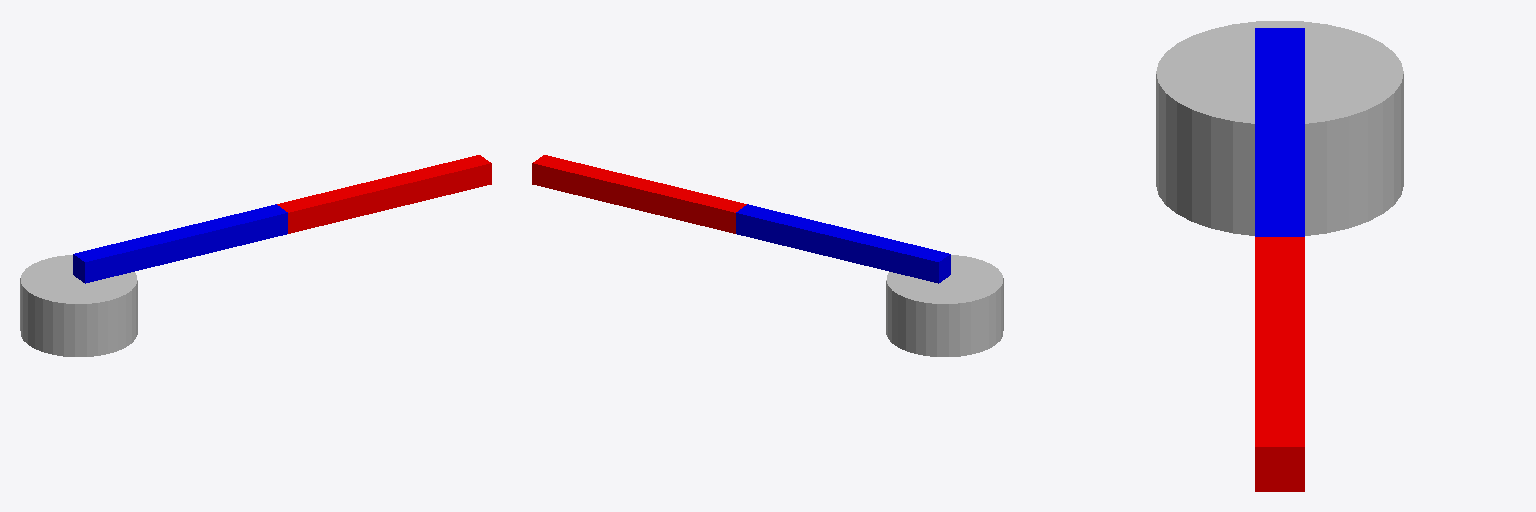
The robot description file, URDF, robot "scara_robot":
<?xml version="1.0"?>
<robot name="scara_robot">

  <!-- Base: silinder dengan diameter 10 cm (radius 0.05 m) dan tinggi 5 cm (0.05 m) -->
  <link name="base_link">
    <inertial>
      <origin xyz="0 0 0.025" rpy="0 0 0"/>
      <mass value="1.0"/>
      <inertia ixx="0.001" ixy="0.0" ixz="0.0" iyy="0.001" iyz="0.0" izz="0.001"/>
    </inertial>
    <visual>
      <origin xyz="0 0 0.025" rpy="0 0 0"/>
      <geometry>
        <cylinder radius="0.05" length="0.05"/>
      </geometry>
      <material name="gray">
        <color rgba="0.8 0.8 0.8 1"/>
      </material>
    </visual>
    <collision>
      <origin xyz="0 0 0.025" rpy="0 0 0"/>
      <geometry>
        <cylinder radius="0.05" length="0.05"/>
      </geometry>
    </collision>
  </link>

  <!-- Link1: lengan pertama (box 20x2x2 cm) -->
  <link name="link1">
    <inertial>
      <!-- Titik pusat di tengah box: 0.1 m dari ujung joint -->
      <origin xyz="0.1 0 0" rpy="0 0 0"/>
      <mass value="0.5"/>
      <inertia ixx="0.01" ixy="0" ixz="0" iyy="0.01" iyz="0" izz="0.01"/>
    </inertial>
    <visual>
      <!-- Posisi visual agar box terletak mulai dari origin joint -->
      <origin xyz="0.1 0 0.01" rpy="0 0 0"/>
      <geometry>
        <box size="0.20 0.02 0.02"/>
      </geometry>
      <material name="blue">
        <color rgba="0 0 1 1"/>
      </material>
    </visual>
    <collision>
      <origin xyz="0.1 0 0.01" rpy="0 0 0"/>
      <geometry>
        <box size="0.20 0.02 0.02"/>
      </geometry>
    </collision>
  </link>

  <!-- Link2: lengan kedua (box 20x2x2 cm) -->
  <link name="link2">
    <inertial>
      <origin xyz="0.1 0 0" rpy="0 0 0"/>
      <mass value="0.5"/>
      <inertia ixx="0.01" ixy="0" ixz="0" iyy="0.01" iyz="0" izz="0.01"/>
    </inertial>
    <visual>
      <origin xyz="0.1 0 0.01" rpy="0 0 0"/>
      <geometry>
        <box size="0.20 0.02 0.02"/>
      </geometry>
      <material name="red">
        <color rgba="1 0 0 1"/>
      </material>
    </visual>
    <collision>
      <origin xyz="0.1 0 0.01" rpy="0 0 0"/>
      <geometry>
        <box size="0.20 0.02 0.02"/>
      </geometry>
    </collision>
  </link>

  <!-- Joint1: antara base dan link1, revolute (rotasi pada sumbu Z) -->
  <joint name="joint1" type="revolute">
    <parent link="base_link"/>
    <child link="link1"/>
    <!-- Tempatkan joint pada puncak base -->
    <origin xyz="0 0 0.05" rpy="0 0 0"/>
    <axis xyz="0 0 1"/>
    <limit lower="-3.14" upper="3.14" effort="10" velocity="1.0"/>
  </joint>

  <!-- Joint2: antara link1 dan link2, revolute (rotasi pada sumbu Z) -->
  <joint name="joint2" type="revolute">
    <parent link="link1"/>
    <child link="link2"/>
    <!-- Tempatkan joint pada ujung link1 -->
    <origin xyz="0.20 0 0" rpy="0 0 0"/>
    <axis xyz="0 0 1"/>
    <limit lower="-3.14" upper="3.14" effort="10" velocity="1.0"/>
  </joint>

</robot>

--- Render facts (derived) ---
3 views of the same robot in one strip: view 1: azimuth 30°, elevation 25°; view 2: azimuth 150°, elevation 25°; view 3: azimuth 270°, elevation 25° (orthographic).
Robot: scara_robot — 3 links, 2 joints (2 revolute); root link base_link; default pose: every joint at zero.
Visible links, largest first — view 1: base_link, link1, link2; view 2: base_link, link1, link2; view 3: base_link, link2, link1.
Link boxes in pixels (box(x1,y1,x2,y2)): base_link: box(20, 255, 137, 356); link1: box(73, 204, 287, 283); link2: box(277, 155, 491, 233); base_link: box(886, 255, 1003, 356); link1: box(736, 204, 950, 283); link2: box(532, 155, 746, 233); base_link: box(1156, 21, 1403, 235); link2: box(1255, 237, 1304, 491); link1: box(1255, 28, 1304, 236).
Bounding box of the posed robot: 0.45 × 0.1 × 0.07 m (x, y, z).
Geometry: primitives only (box / cylinder / sphere), no mesh files.